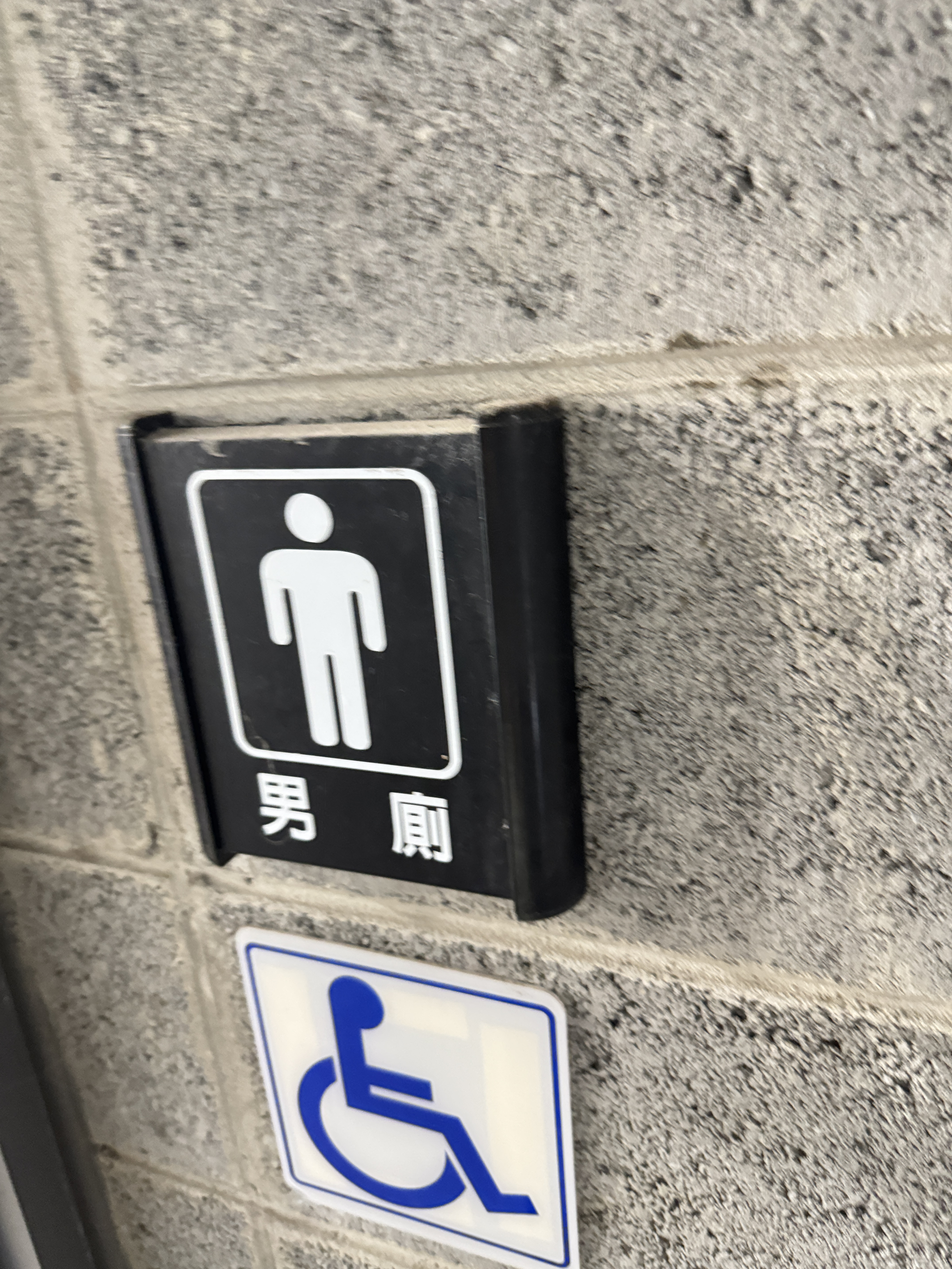toilet_sign: (106, 400, 617, 934)
